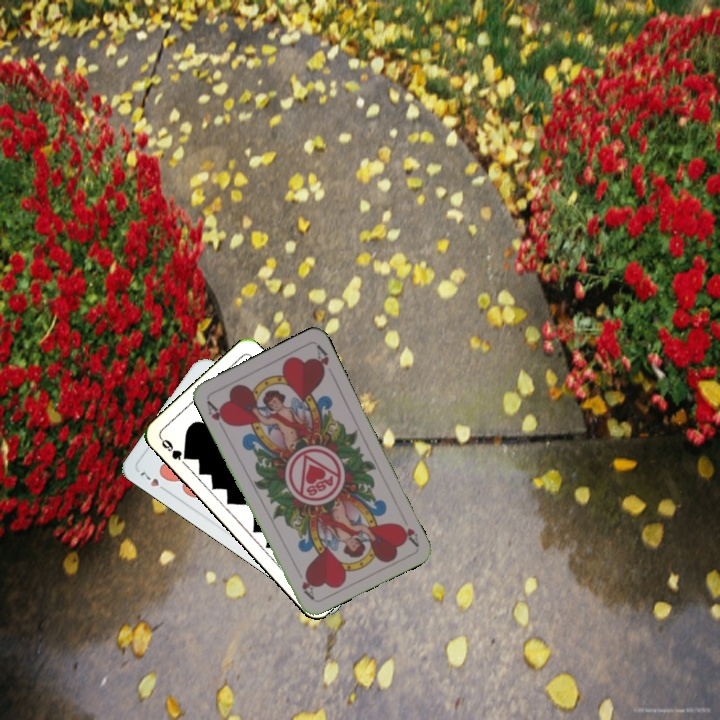G9: (156, 434, 192, 463)
H7: (135, 466, 170, 495)
HA: (203, 396, 232, 428), (394, 520, 421, 548)
